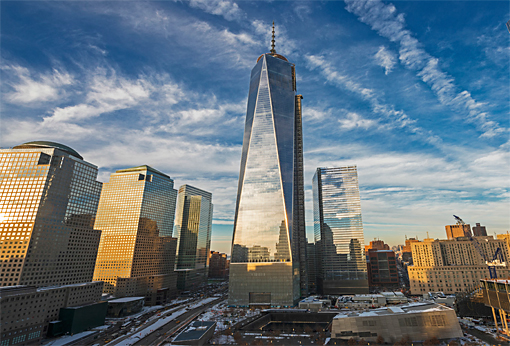wtc: (234, 20, 298, 300)
